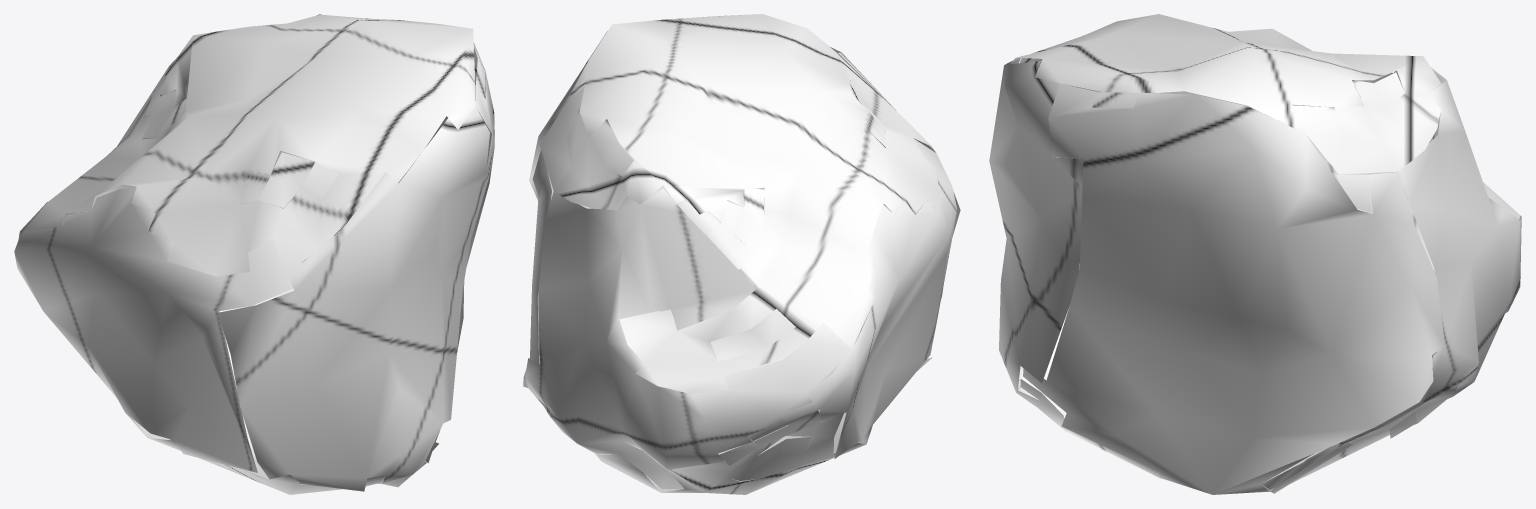
Rendered from asteroide5.obj.
3 renders of one model, left to right at view 1: azimuth 30°, elevation 25°; view 2: azimuth 150°, elevation 25°; view 3: azimuth 270°, elevation 25°, orthographic. The views are drawn at different scales.
Visible parts, largest first — view 1: Asteroid_no_5_Material_#3_0; view 2: Asteroid_no_5_Material_#3_0; view 3: Asteroid_no_5_Material_#3_0.
Part boxes in pixels (x1,y1,x2,y2): Asteroid_no_5_Material_#3_0: (14,14,494,494); Asteroid_no_5_Material_#3_0: (523,14,960,494); Asteroid_no_5_Material_#3_0: (989,14,1521,494).
Size of the model in its own units: 0.4889 by 0.5134 by 0.5529.
